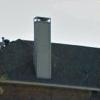Chimney: (26, 10, 59, 81)
